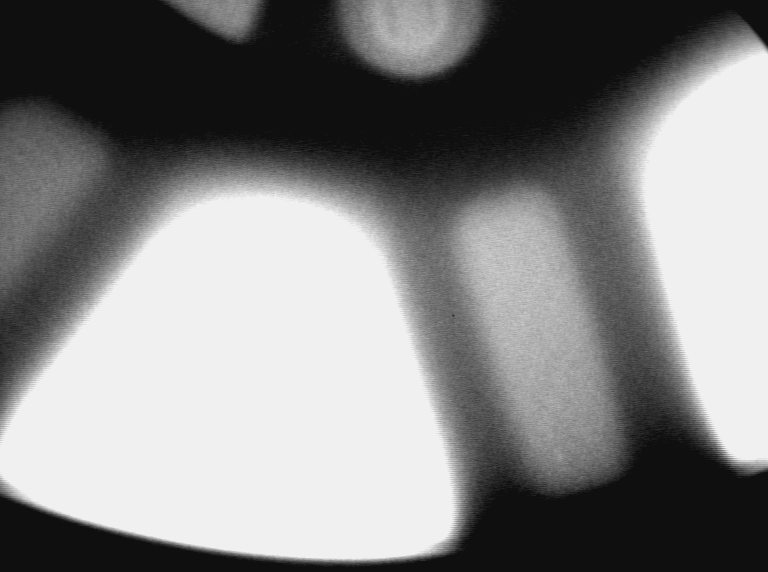defect: (550, 444, 568, 470)
